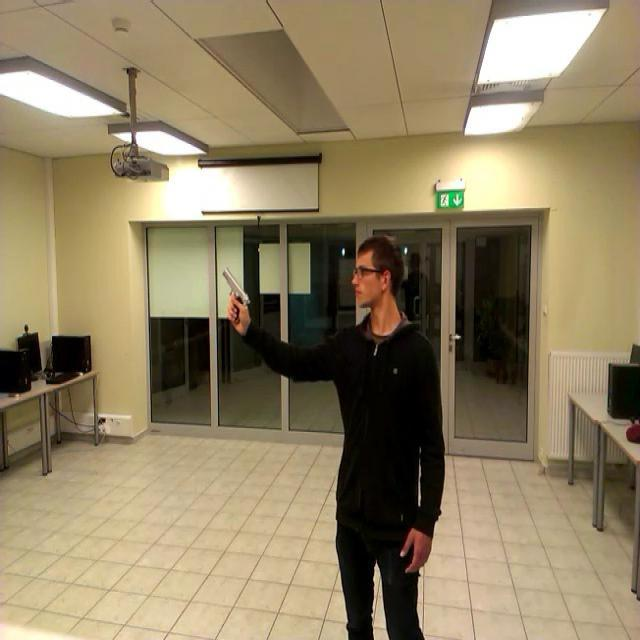weapon: (222, 268, 250, 324)
